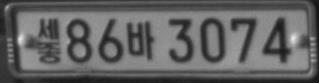0: (199, 17, 226, 62)
3: (167, 18, 194, 63)
4: (262, 16, 292, 63)
6: (97, 17, 124, 63)
7: (229, 17, 257, 63)
8: (65, 17, 92, 63)
바: (126, 20, 155, 61)
세종_V: (35, 16, 62, 64)
